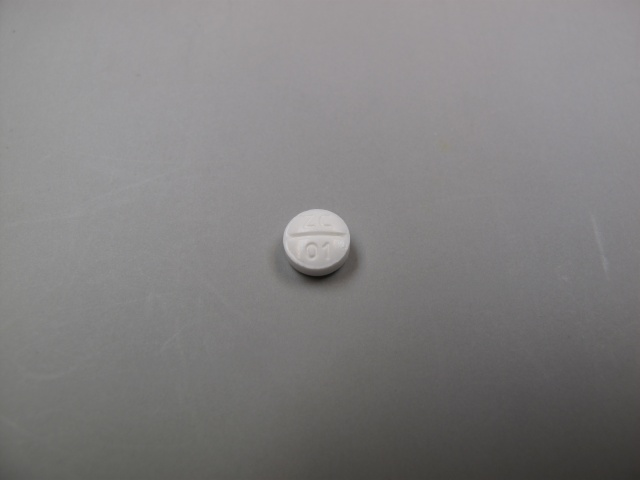0: (302, 239, 321, 262)
1: (321, 239, 334, 262)
C: (318, 214, 336, 229)
Z: (302, 212, 318, 232)
|: (282, 230, 353, 242)
